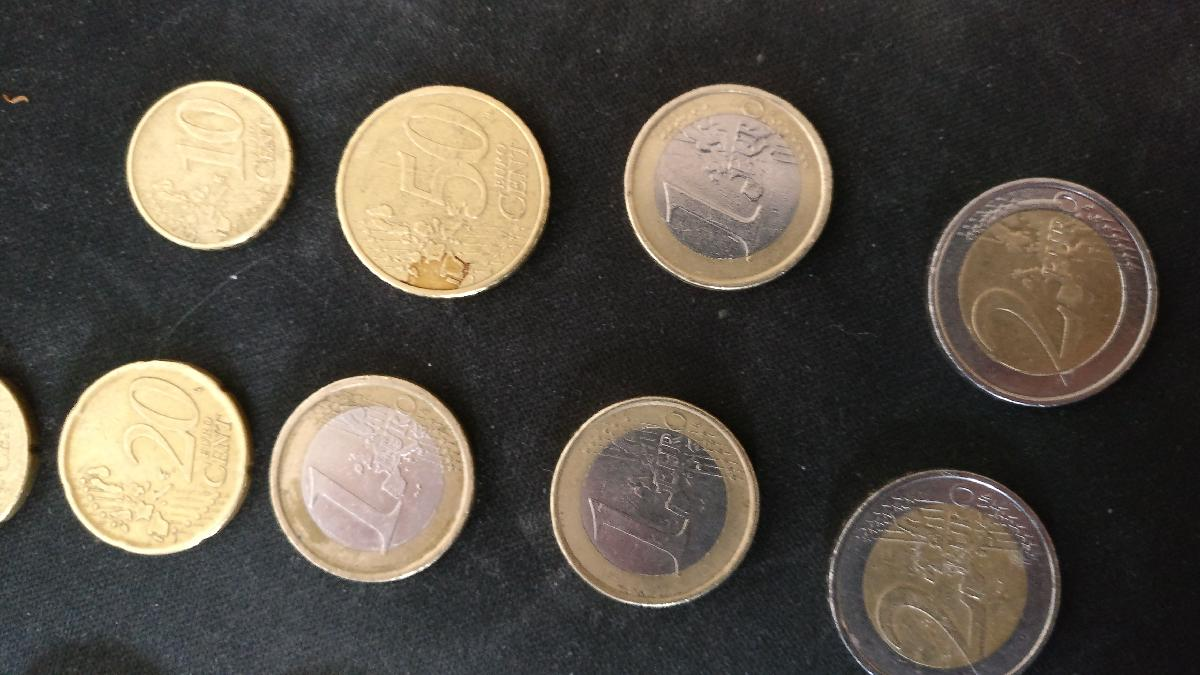Fifty Cent: (334, 88, 560, 292)
One Euro: (622, 82, 832, 291), (549, 397, 753, 607), (270, 374, 478, 579)
Ten Cent: (128, 84, 295, 252)
Twenty Cent: (56, 363, 253, 554), (1, 383, 40, 529)
Two Euro: (927, 175, 1164, 411), (829, 471, 1067, 675)
